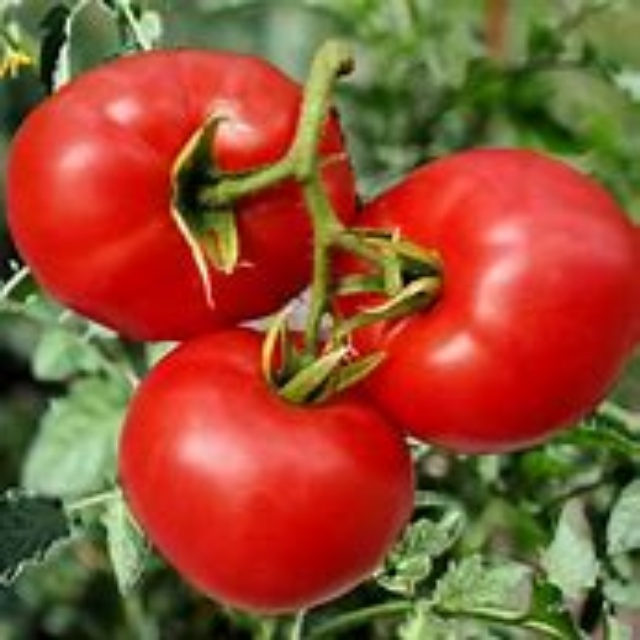tomato: (9, 55, 361, 345), (342, 155, 639, 447), (120, 324, 409, 602)
